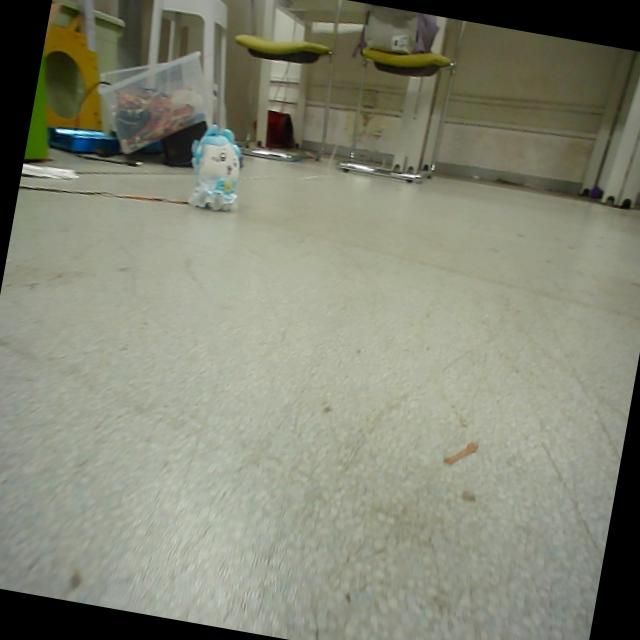xiaoba: (178, 111, 250, 216)
